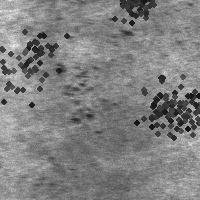rolled-in_scale: (0, 15, 59, 131), (124, 69, 200, 149), (0, 12, 68, 84), (57, 52, 112, 138), (166, 78, 200, 142), (108, 0, 164, 29)
